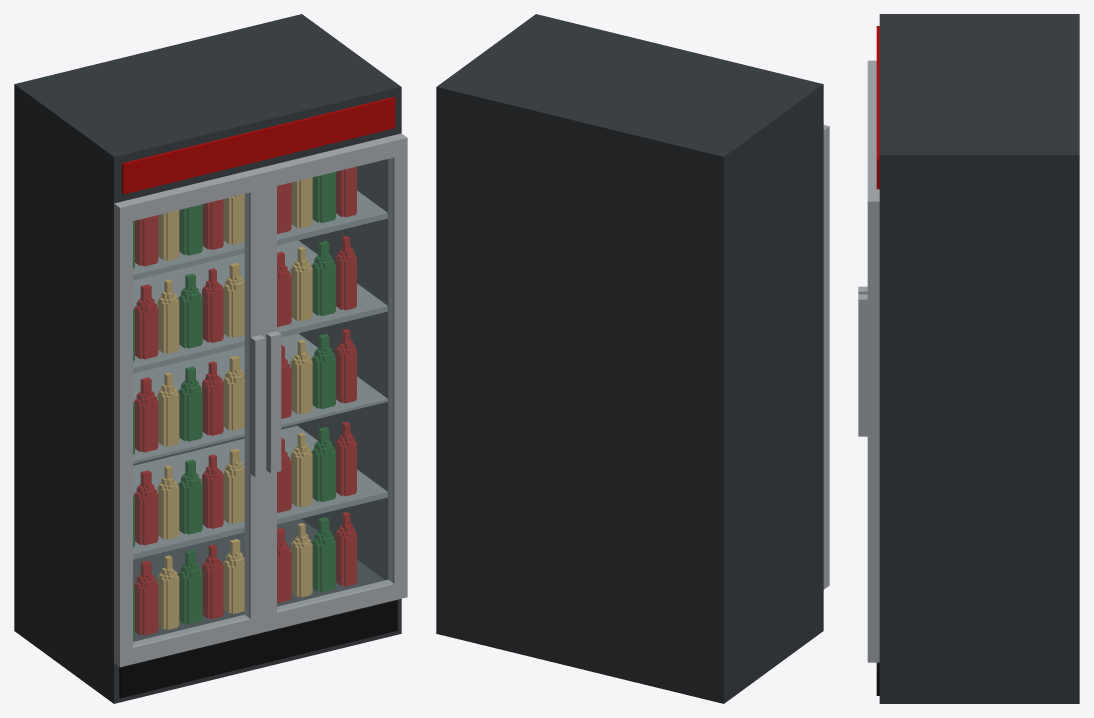
The model's file is glass_fridge_double.glb.
3 renders of one model, left to right at view 1: azimuth 30°, elevation 25°; view 2: azimuth 150°, elevation 25°; view 3: azimuth 270°, elevation 25°, orthographic.
Visible parts, largest first — view 1: glass_fridge_double:compound; view 2: glass_fridge_double:compound; view 3: glass_fridge_double:compound.
Boxes of the visible parts, box(x1,y1,x2,y2) form: glass_fridge_double:compound: box(14, 14, 407, 703); glass_fridge_double:compound: box(436, 14, 829, 703); glass_fridge_double:compound: box(858, 14, 1079, 703).
Bounding box in the file's own units: 1.1 × 2 × 0.73.
